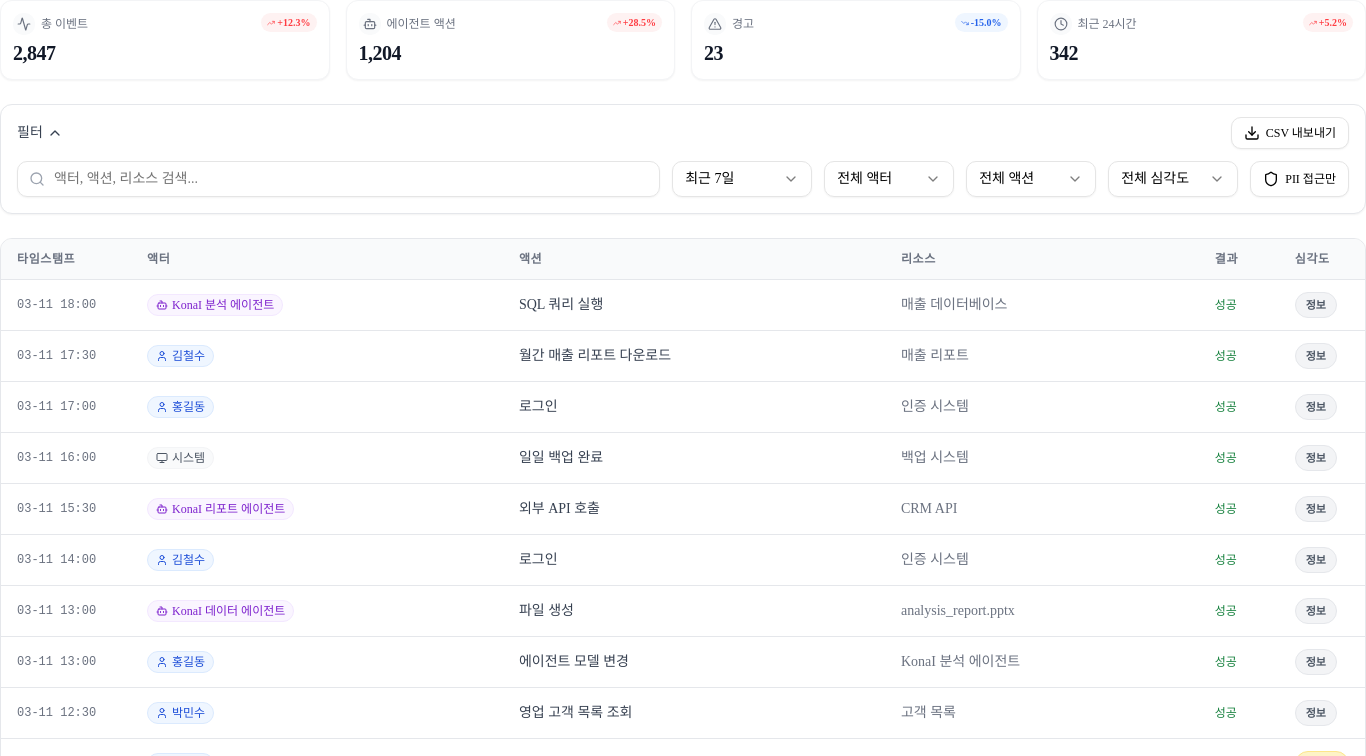
it: AuditLogView — QA Edge Cases › Filter panel collapse/expand › collapses filter panel on toggle click and sets aria-expanded="false"
Click the button "필터" at (40, 133), box [17,123,63,143]
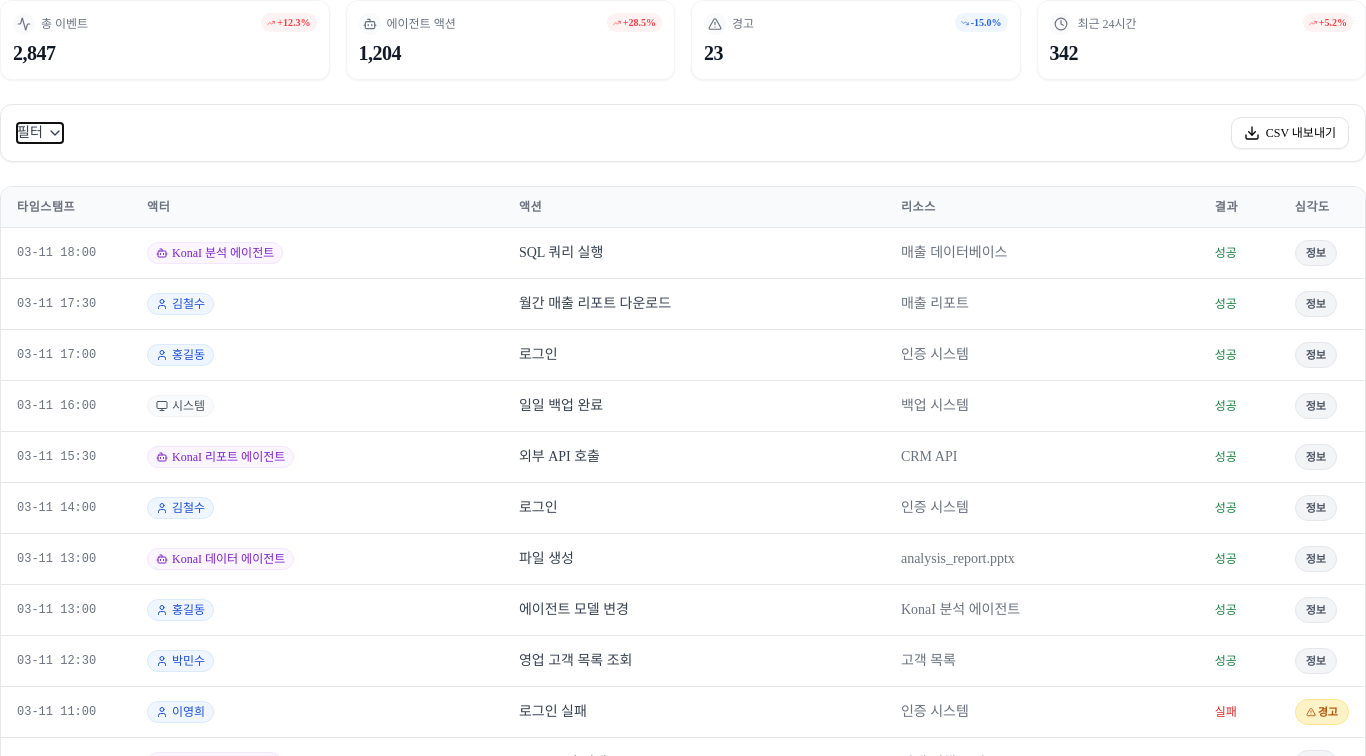
Expected: the field with placeholder "액터, 액션, 리소스 검색..." is not shown
Expected: the button "필터" is collapsed, [17,123,63,143]
